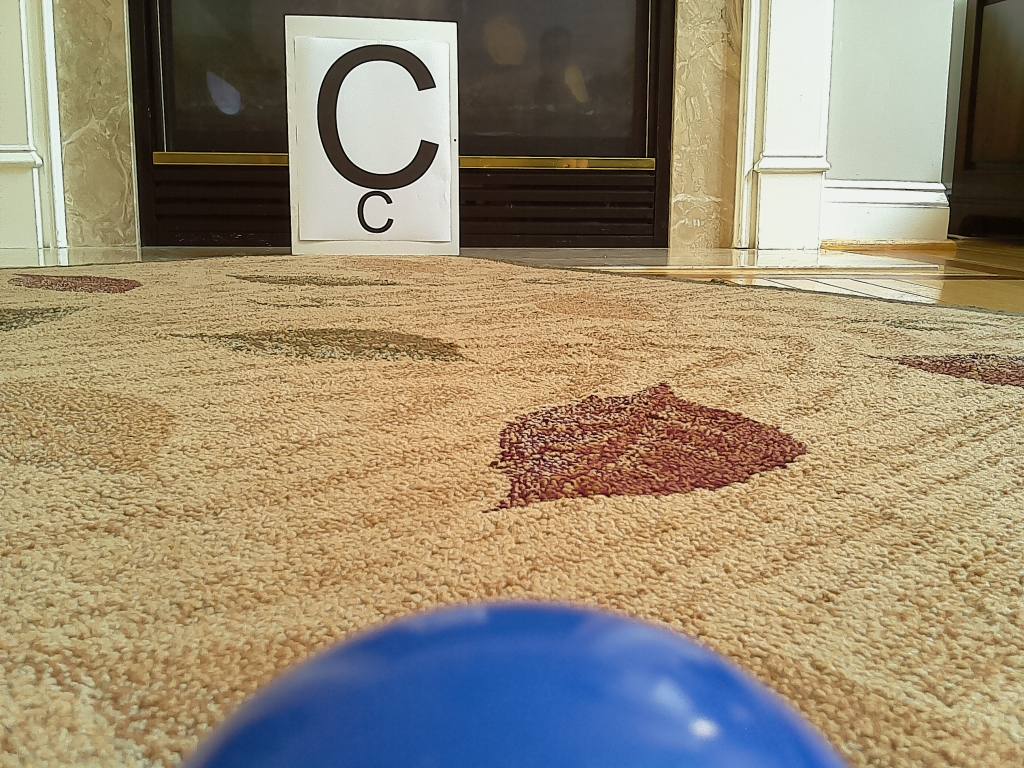letter: (317, 43, 435, 189)
